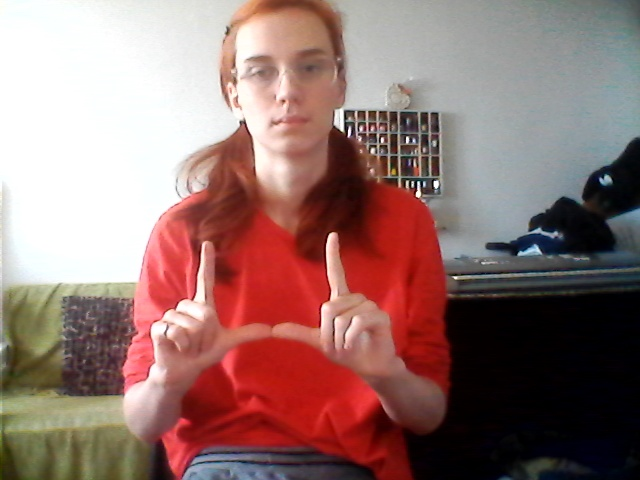u: (147, 229, 408, 392)
